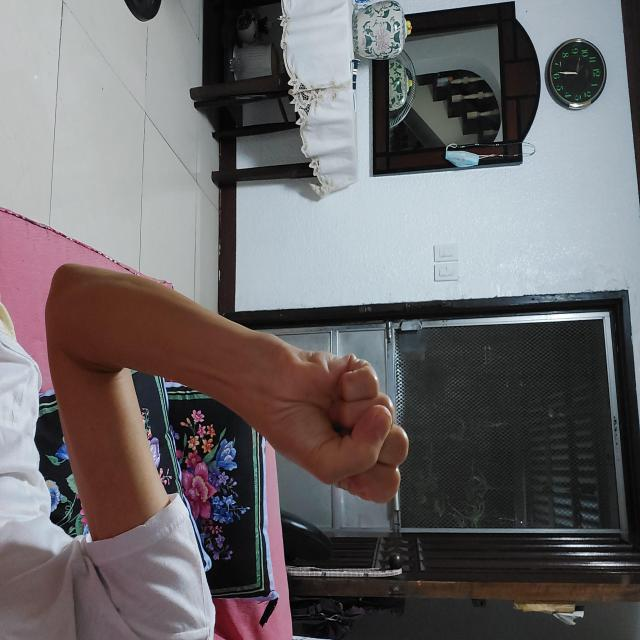S: (339, 231, 504, 379)
